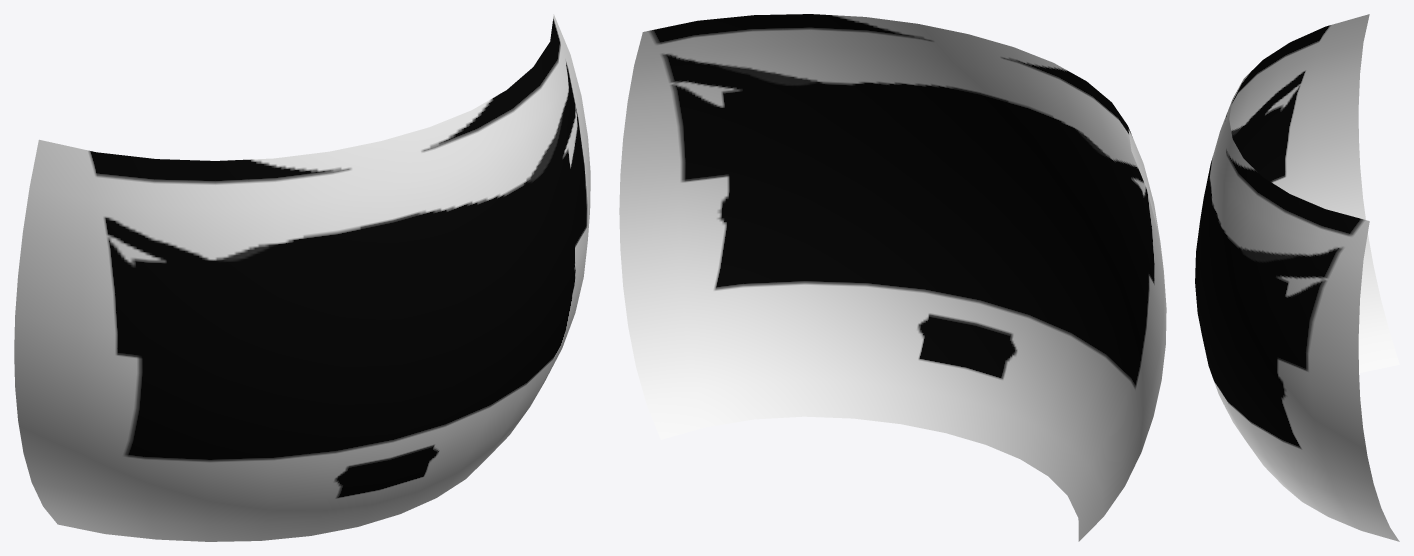
File: Dollar Face .fbx
3 views of the same model, side by side, from view 1: azimuth 30°, elevation 25°; view 2: azimuth 150°, elevation 25°; view 3: azimuth 270°, elevation 25° (orthographic). The views are drawn at different scales.
Parts seen in each view (by area): view 1: Blush Face; view 2: Blush Face; view 3: Blush Face.
Part boxes in pixels (x1,y1,x2,y2): Blush Face: (14, 14, 590, 541); Blush Face: (619, 14, 1166, 541); Blush Face: (1195, 14, 1399, 541).
Size of the model in its own units: 55.82 by 37.73 by 20.87.
